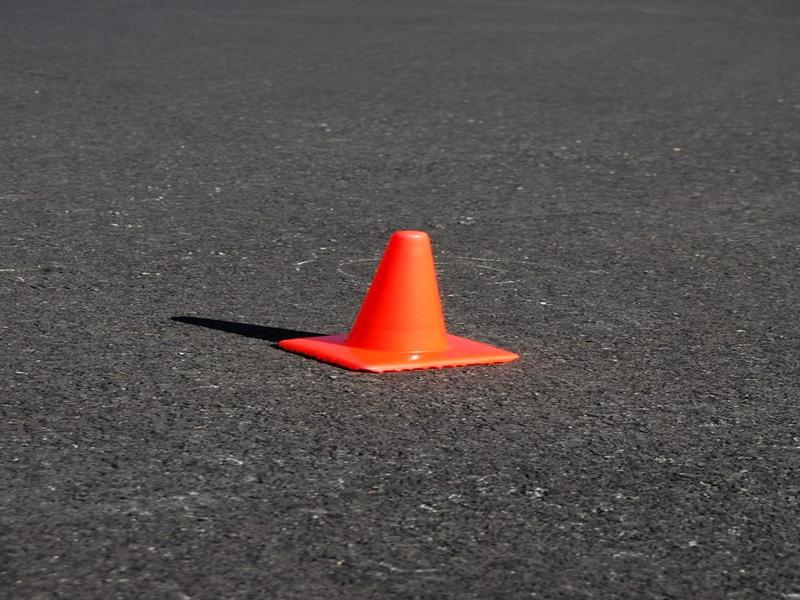Cone1: (275, 228, 522, 374)
